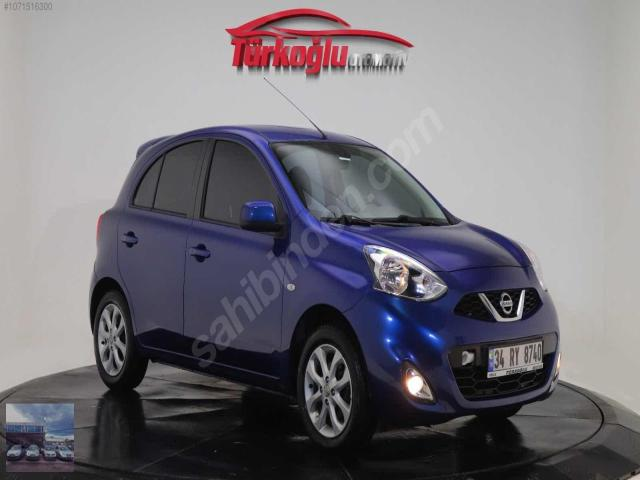plaka: (488, 341, 542, 378)
